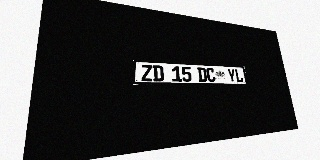plate: (133, 60, 248, 85)
